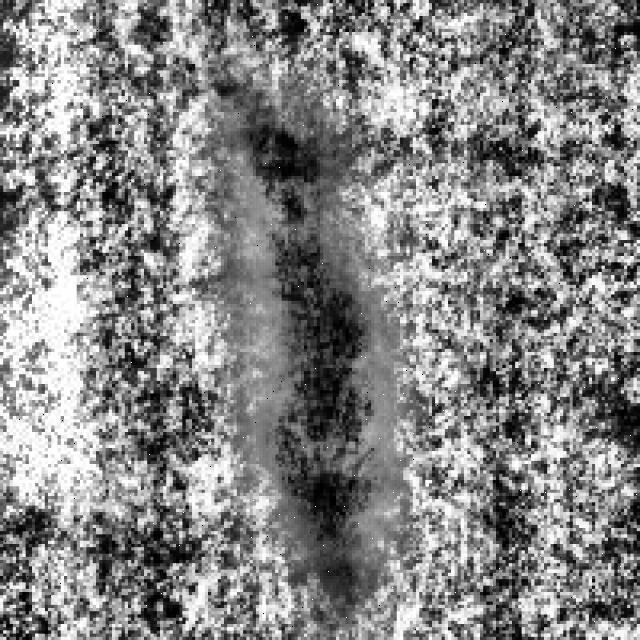Scratches: (230, 233, 394, 592), (208, 73, 326, 260)
